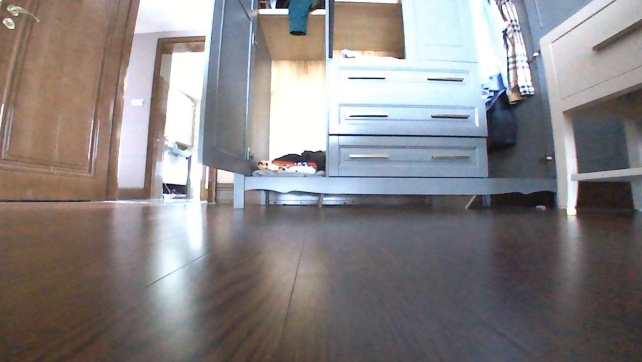door_anno: (0, 0, 141, 205)
